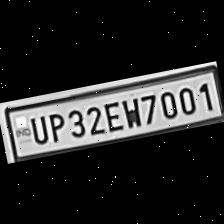0: (174, 82, 198, 116), (154, 86, 178, 119)
1: (193, 78, 216, 112)
2: (81, 101, 105, 137)
3: (63, 103, 87, 139)
7: (136, 89, 160, 125)
E: (100, 97, 125, 133)
P: (43, 107, 68, 143)
U: (24, 110, 49, 144)
W: (119, 92, 143, 128)
